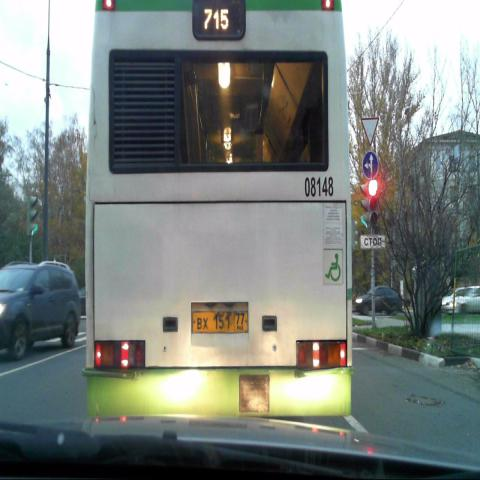2_4: (361, 118, 380, 148)
